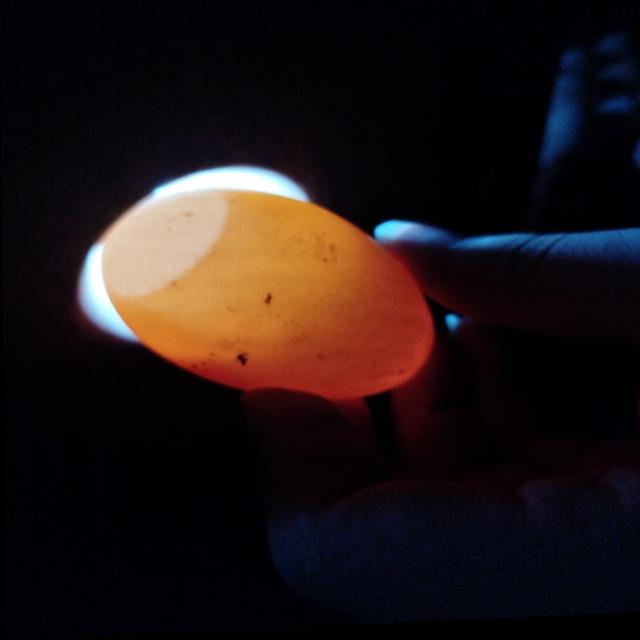Camara de Ar: (101, 190, 229, 298)
